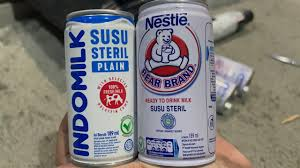metal: (134, 1, 218, 168), (62, 9, 137, 168)
